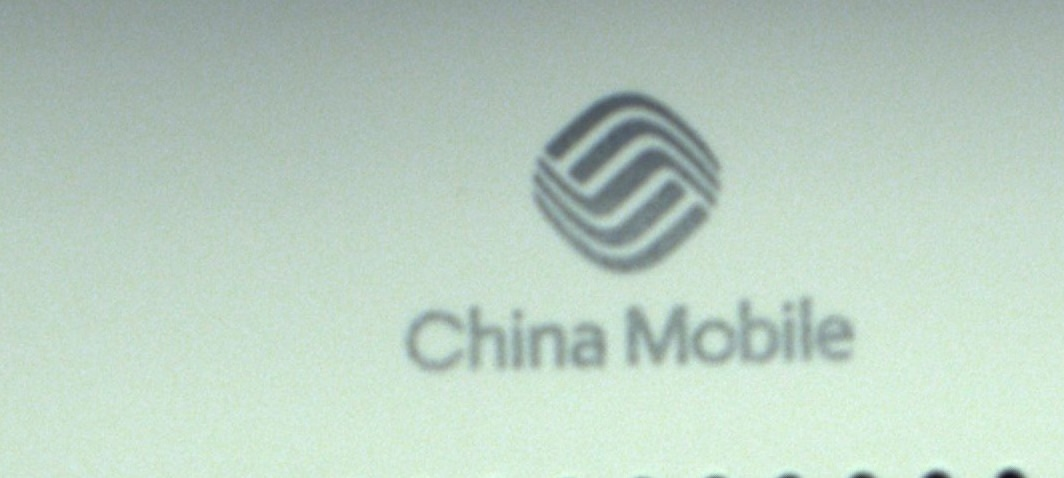AA_ChinaMobile: (394, 88, 856, 383)
